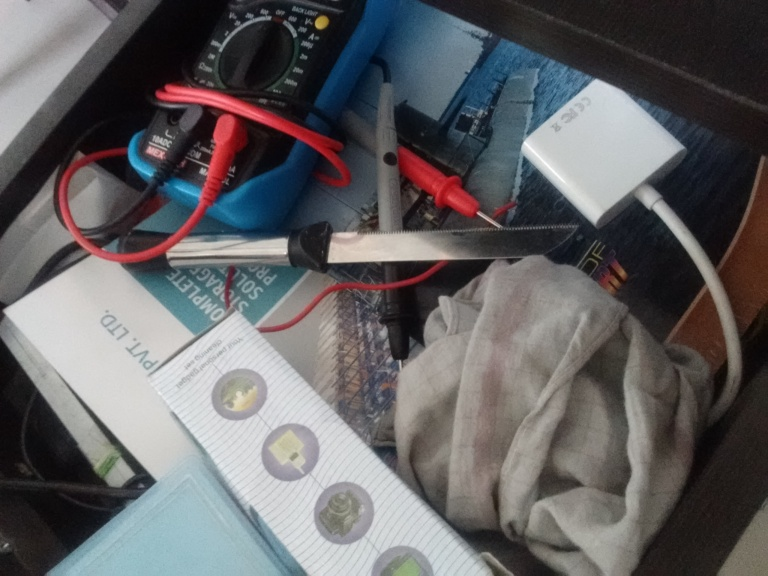knife: (107, 219, 584, 274)
